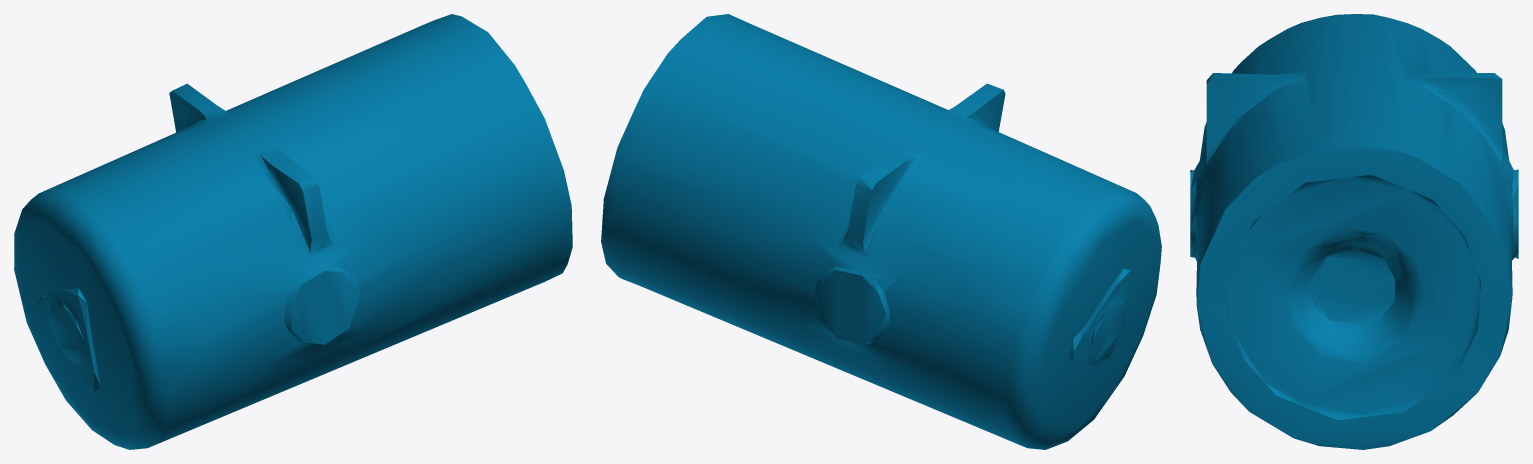
The picture shows the model from 3 angles, left to right: view 1: azimuth 30°, elevation 25°; view 2: azimuth 150°, elevation 25°; view 3: azimuth 270°, elevation 25°; orthographic projection. The views are drawn at different scales.
Visible parts, largest first — view 1: mh00400-j00_lk1_2; view 2: mh00400-j00_lk1_2; view 3: mh00400-j00_lk1_2.
Part boxes in pixels (bbox=[...]): mh00400-j00_lk1_2: bbox=[14, 14, 572, 449]; mh00400-j00_lk1_2: bbox=[601, 14, 1161, 449]; mh00400-j00_lk1_2: bbox=[1190, 14, 1518, 449].
Size of the model in its own units: 0.5776 by 0.3221 by 0.3897.
